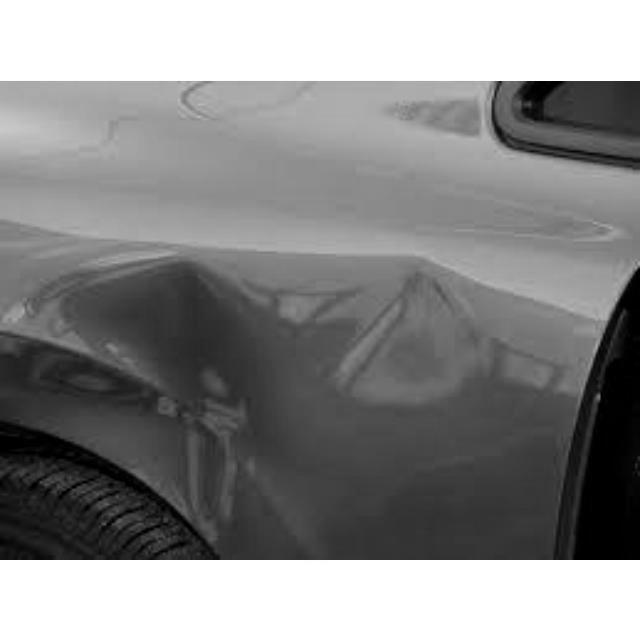quaterpanel-dent: (30, 189, 534, 502)
